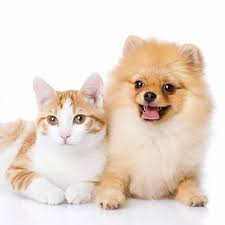cat: (1, 73, 107, 208)
dog: (102, 37, 214, 210)
